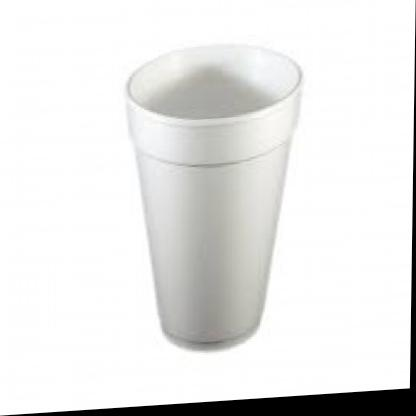Plastic: (108, 20, 327, 384)
